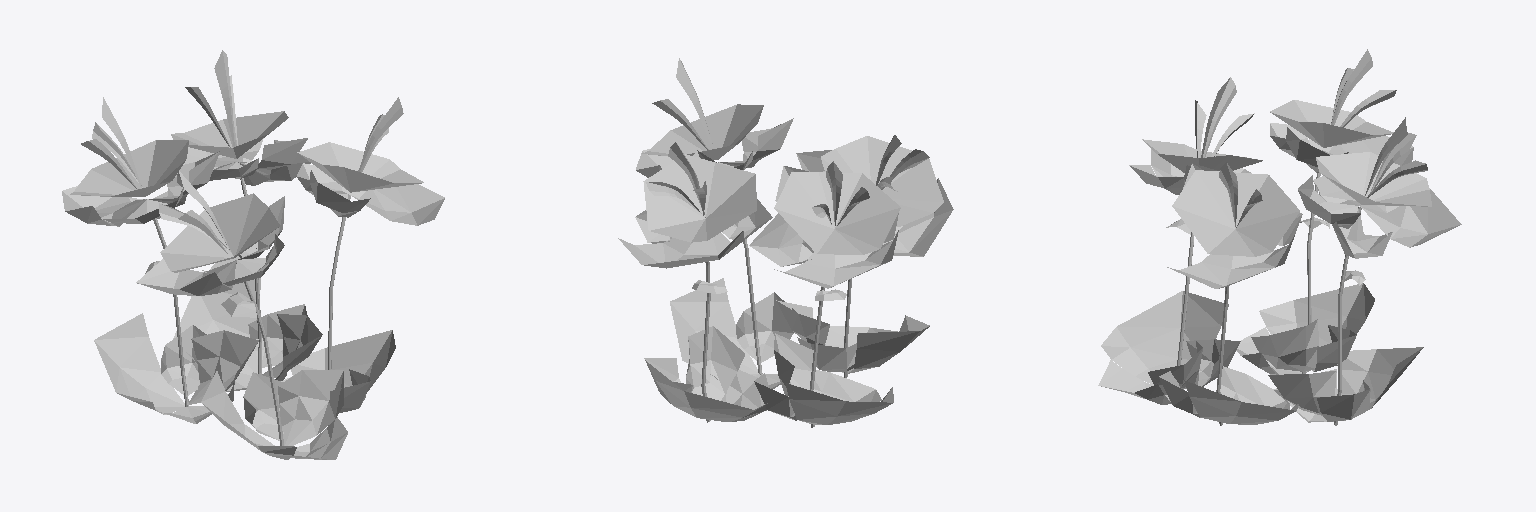
Rendered from Flower_7_Group.obj.
The picture shows the model from 3 angles: view 1: azimuth 30°, elevation 25°; view 2: azimuth 150°, elevation 25°; view 3: azimuth 270°, elevation 25°; orthographic projection.
Visible parts, largest first — view 1: Flower_7_Group; view 2: Flower_7_Group; view 3: Flower_7_Group.
Boxes of the visible parts, x1=… form: Flower_7_Group: x1=62, y1=50, x2=444, y2=459; Flower_7_Group: x1=618, y1=58, x2=953, y2=427; Flower_7_Group: x1=1098, y1=49, x2=1461, y2=425.
Bounding box in the file's own units: 1.84 × 1.71 × 1.84.